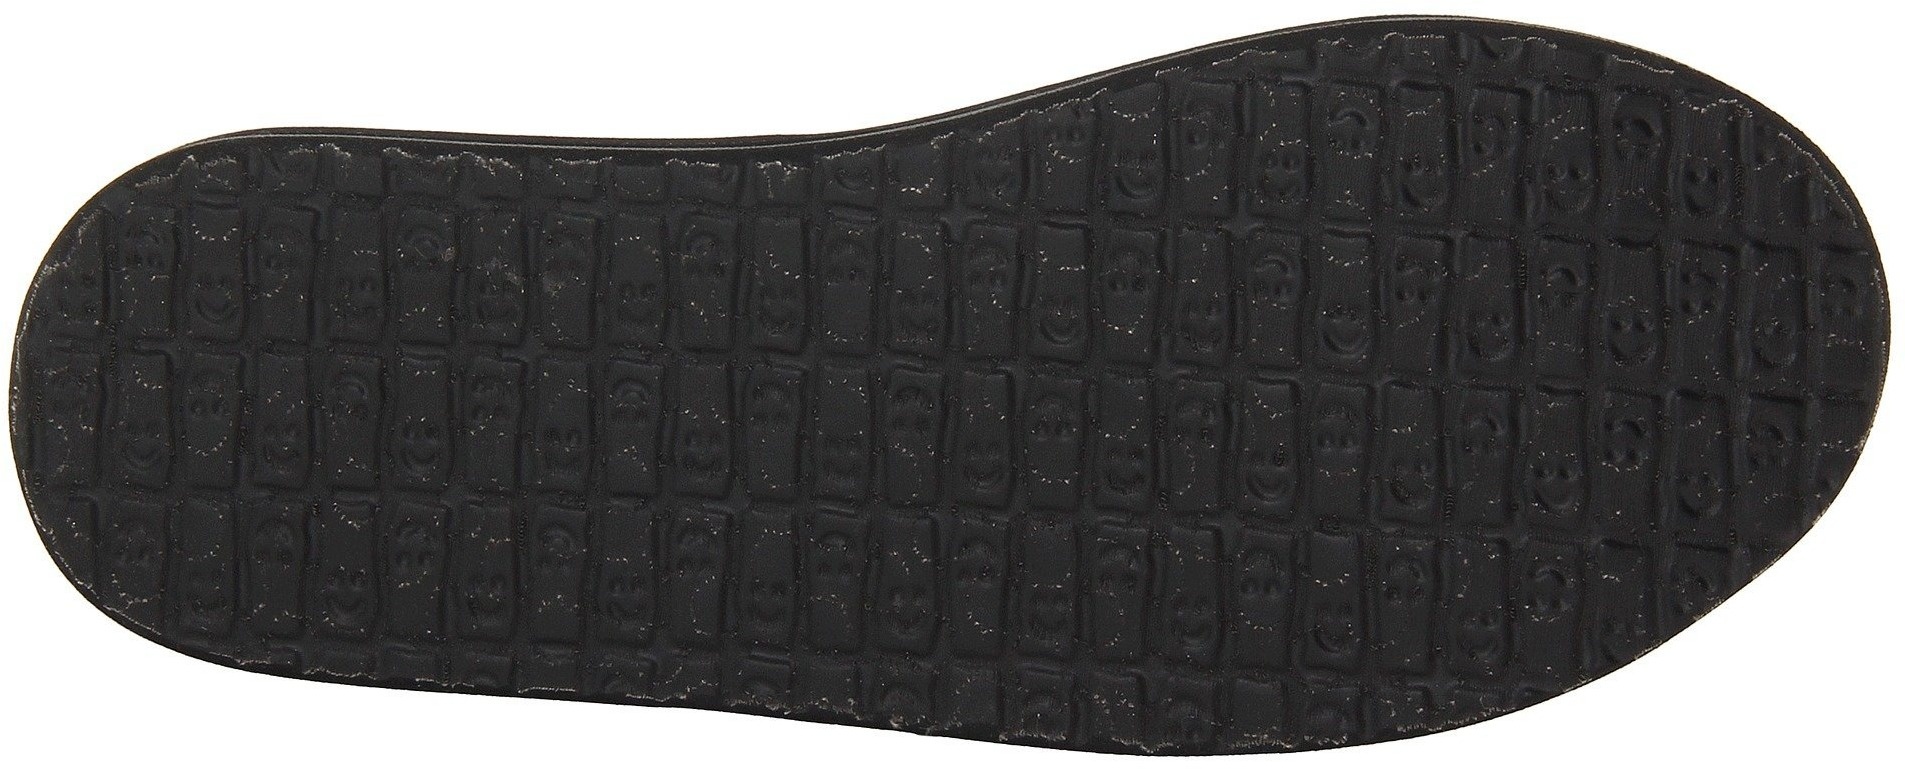quad: (177, 183, 677, 665), (737, 200, 1236, 677), (1304, 85, 1745, 539)
